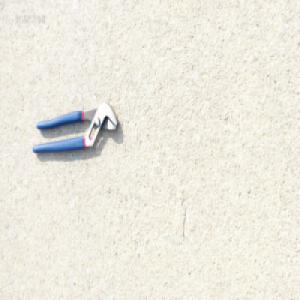Pliers: (30, 99, 118, 156)
